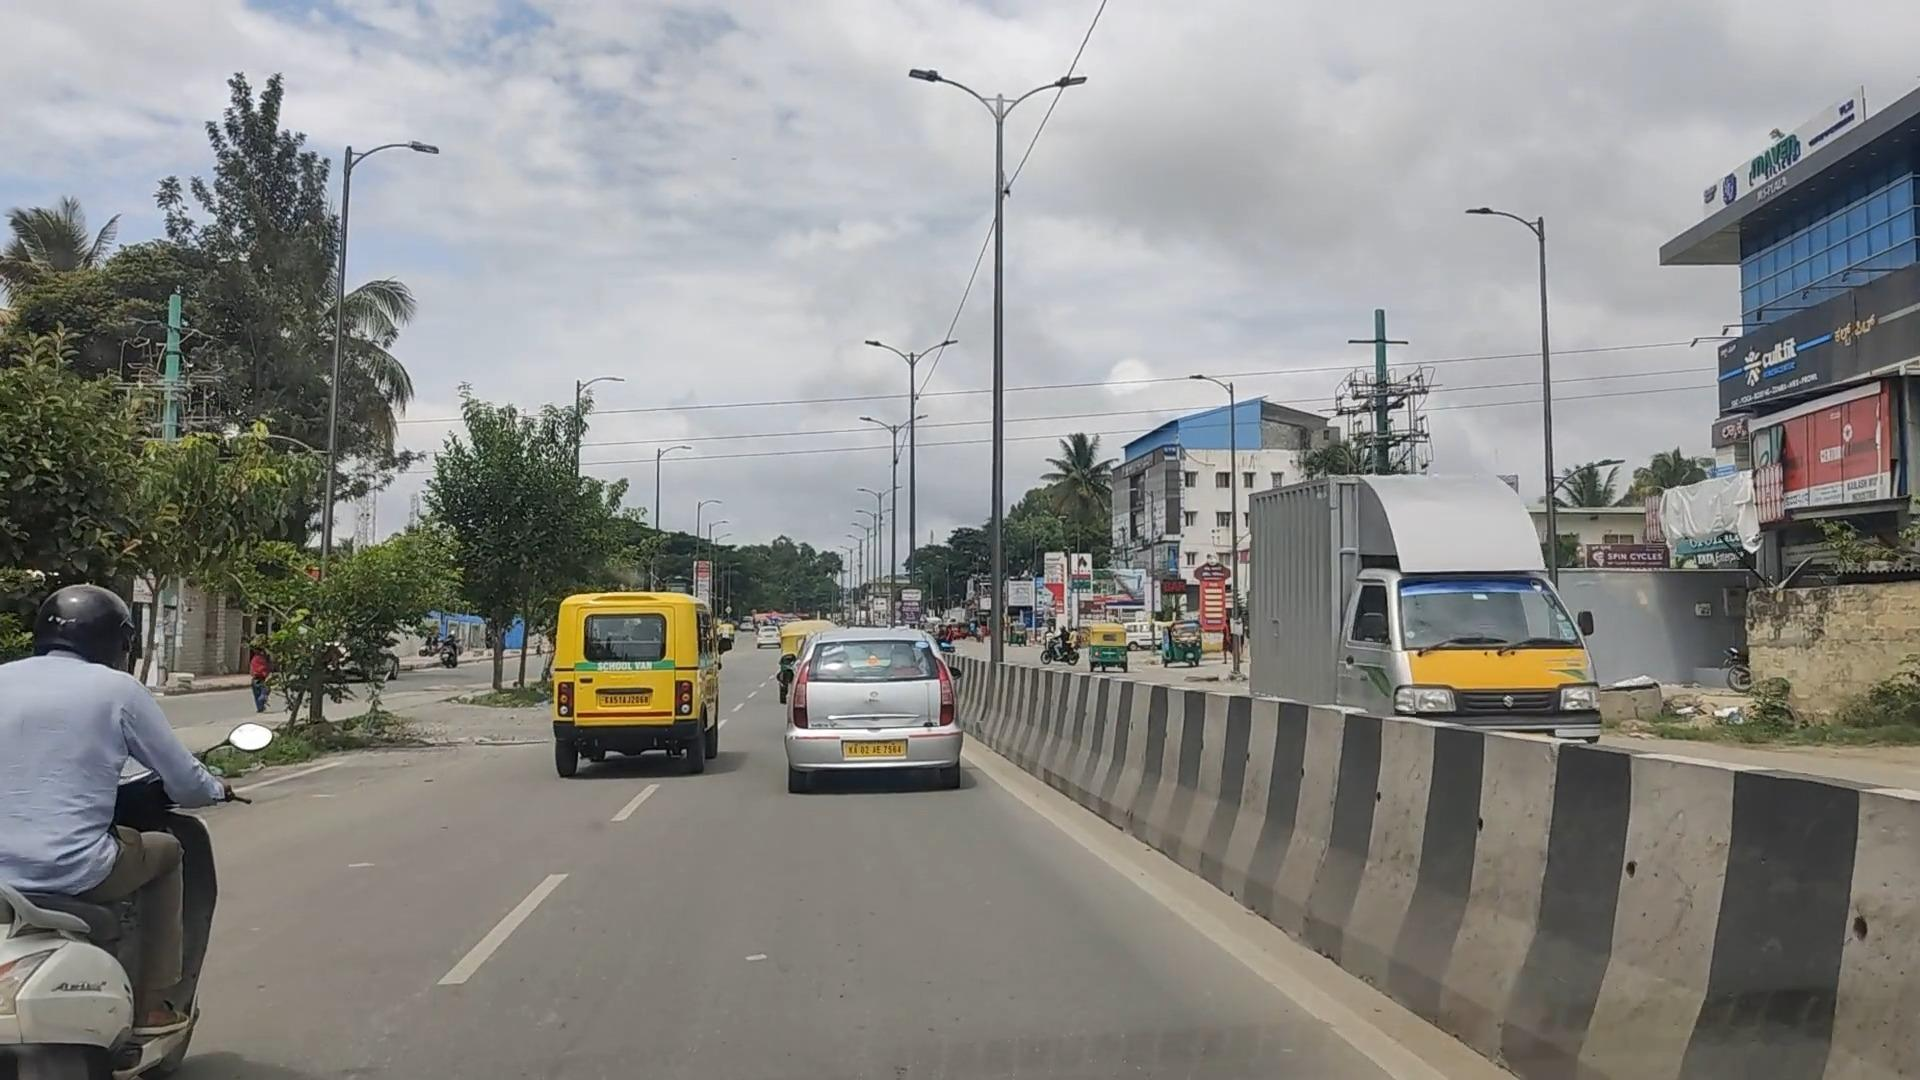LMV: (0, 563, 281, 1080), (529, 589, 742, 783), (753, 618, 965, 806)
